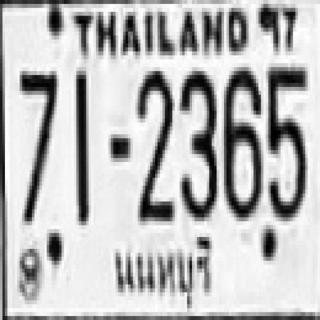N01: (75, 69, 87, 223)
N02: (135, 69, 172, 219)
N03: (178, 67, 216, 217)
N05: (266, 63, 305, 217)
N06: (223, 63, 260, 217)
N07: (17, 67, 57, 221), (17, 65, 57, 199)
P37: (107, 229, 220, 309)
